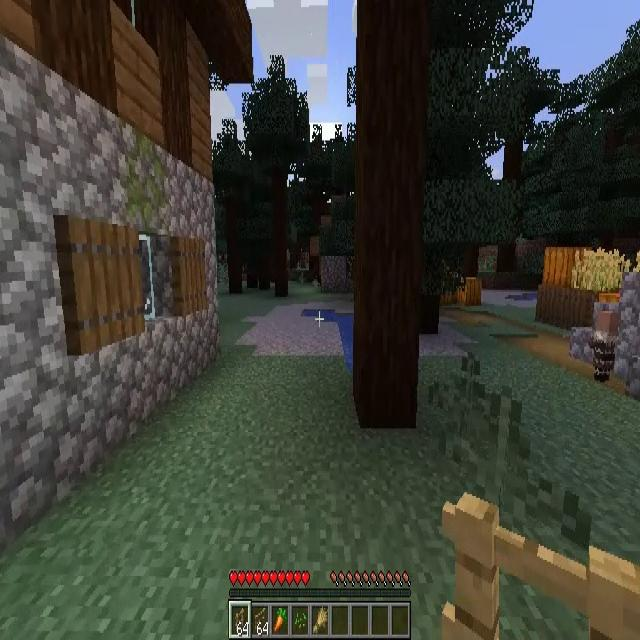people: (589, 310, 620, 380)
